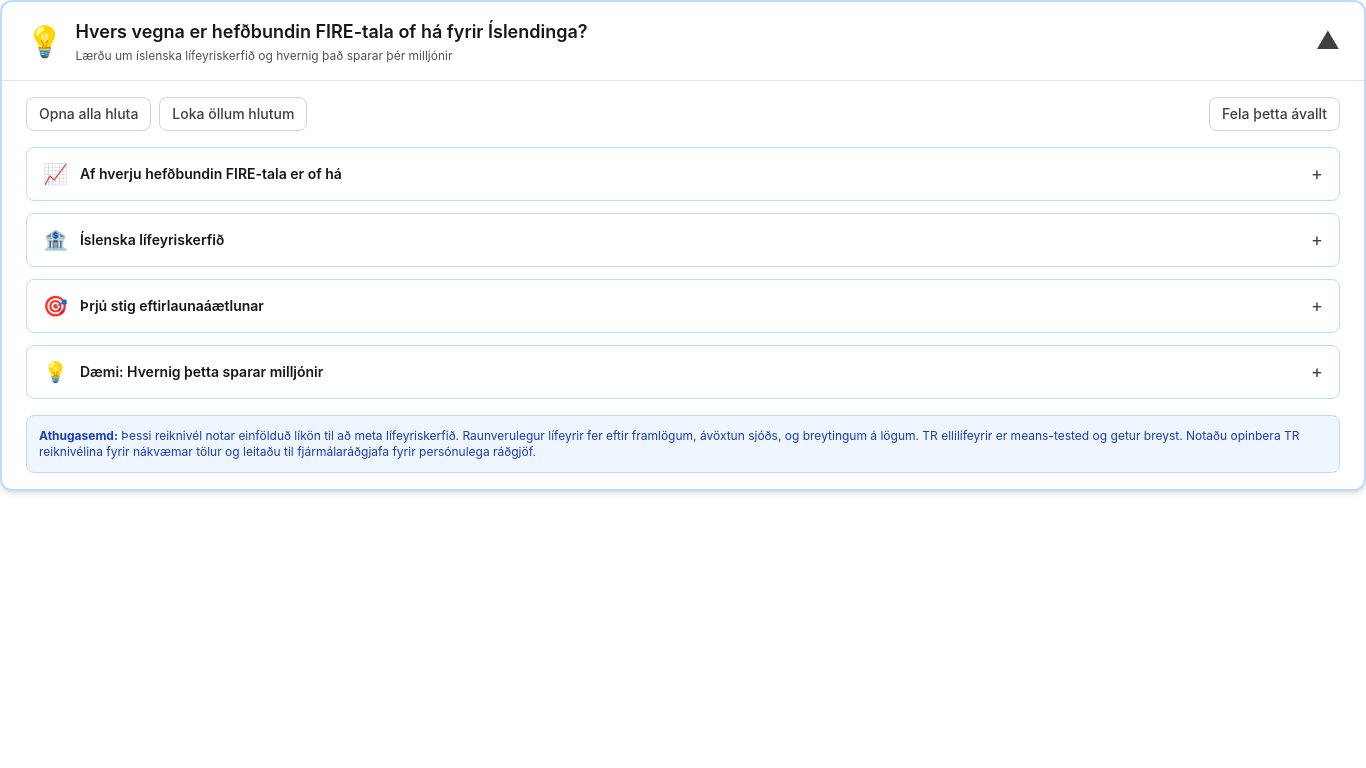
Scenario: PensionEducationalIntro › Content Accuracy › displays correct pension system information
Click the button "🏦 Íslenska lífeyriskerfið +".
click(152, 240)  # box [27,214,1339,266]
(page scrolled)
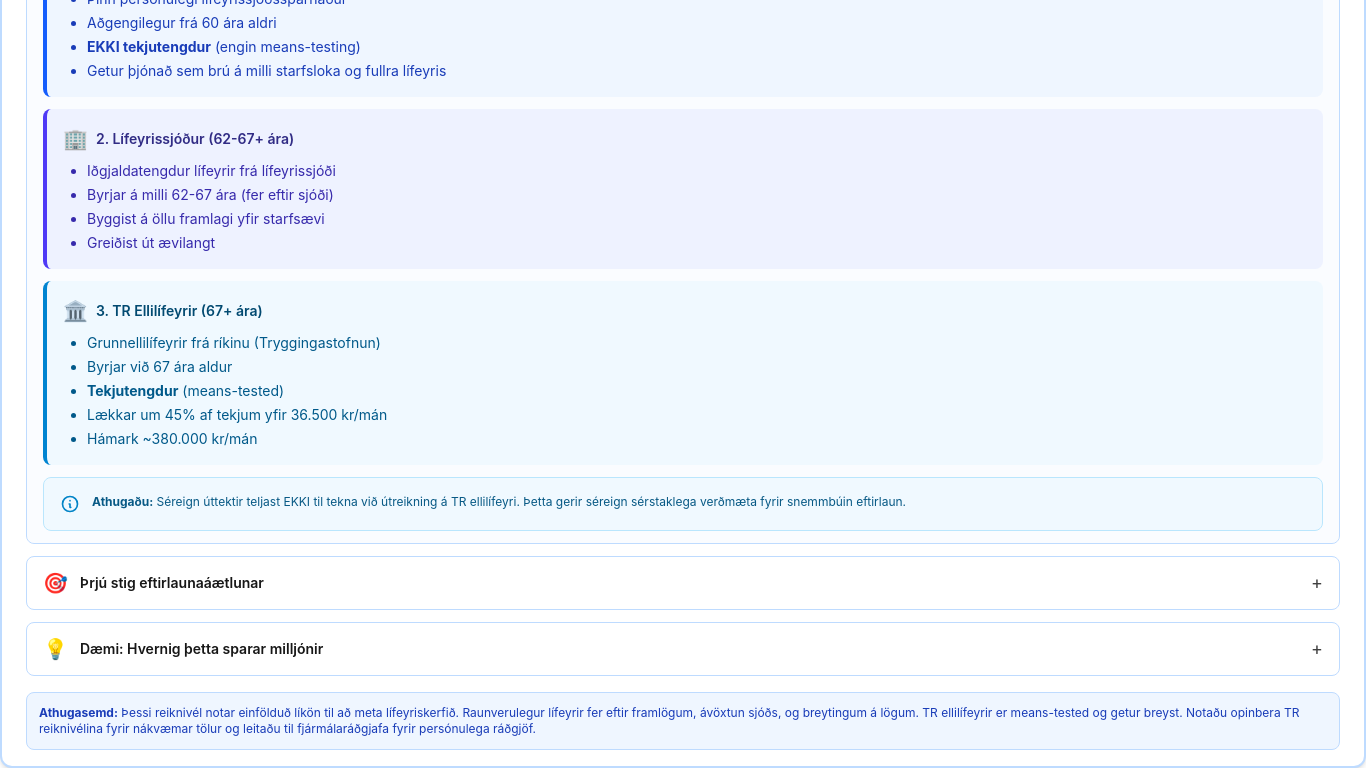
Now the text "EKKI tekjutengdur" is shown, box [87,38,211,55]
Now the heading "2. Lífeyrissjóður (62-67+ ára)" is shown, box [96,129,294,149]
Now the list item "Iðgjaldatengdur lífeyrir frá lífeyrissjóði" is shown, box [87,162,336,179]
